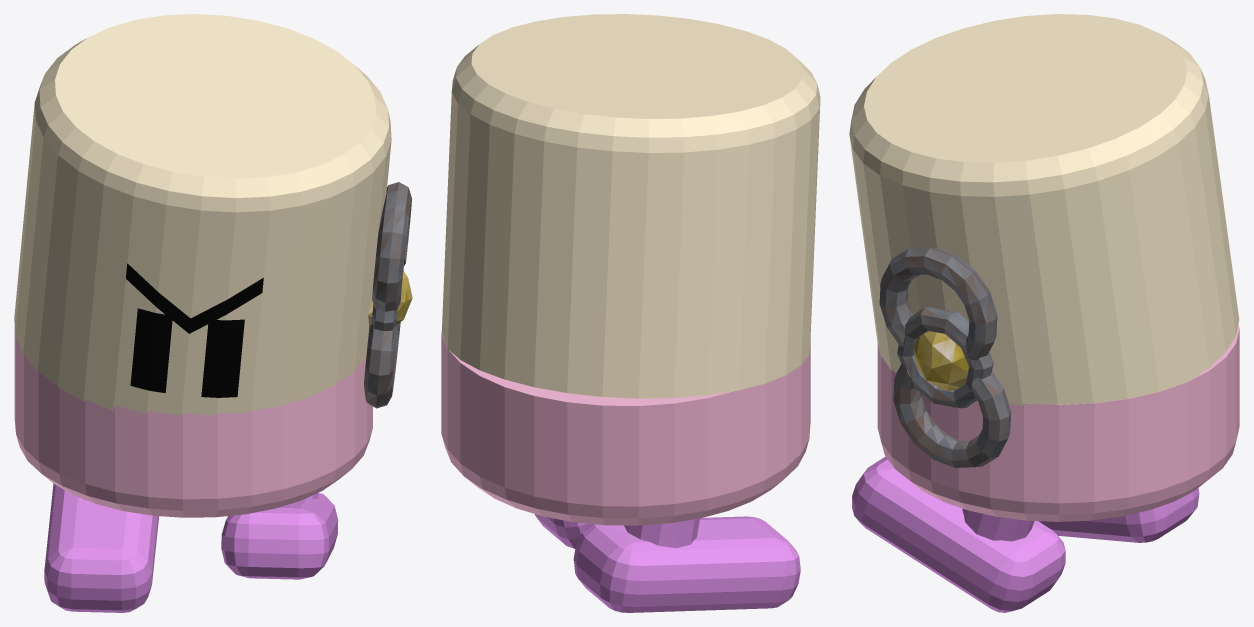
Rendered from Toaster-atlas.obj.
The picture shows the model from 3 angles, left to right: view 1: azimuth 30°, elevation 25°; view 2: azimuth 150°, elevation 25°; view 3: azimuth 270°, elevation 25°; orthographic projection. The views are drawn at different scales.
Size of the model in its own units: 1.07 by 1.55 by 1.08.
